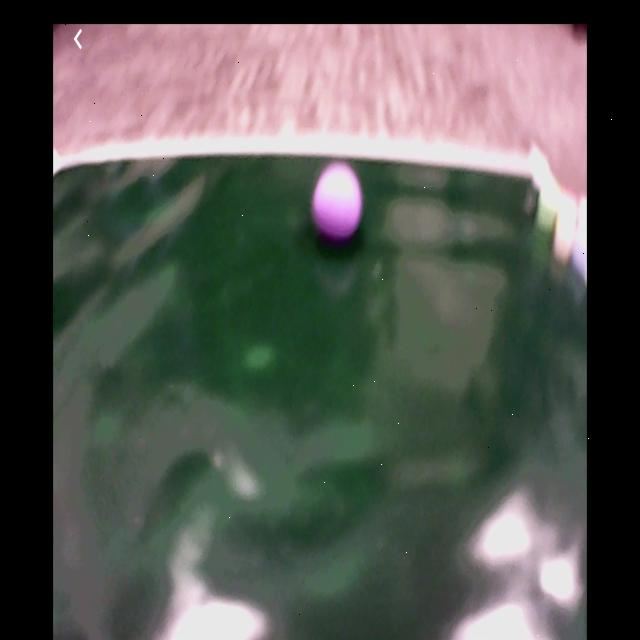ball: (314, 164, 364, 238)
